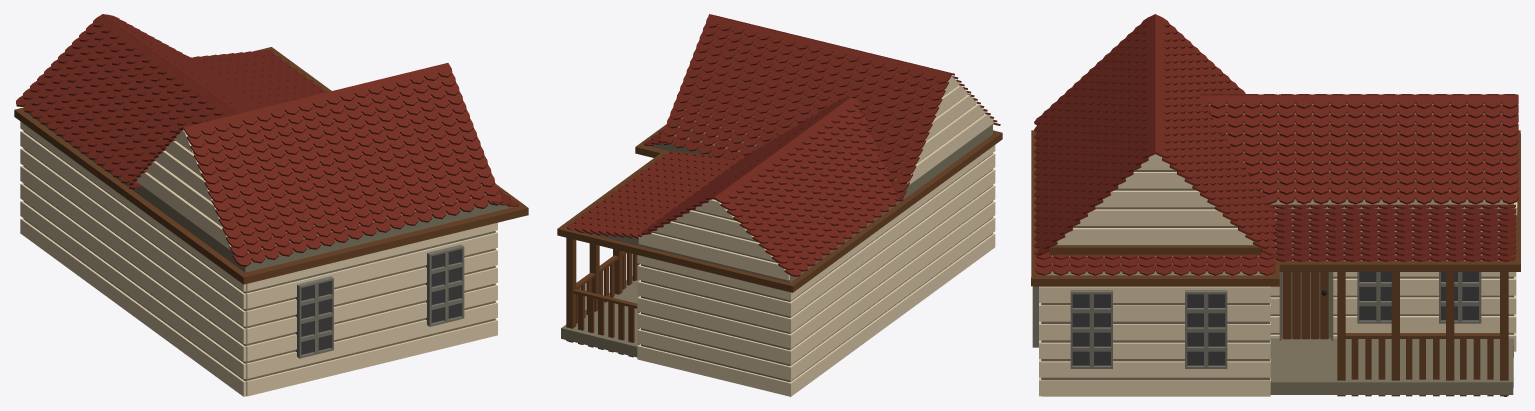
File: mainhouse.fbx
The picture shows the model from 3 angles, left to right: view 1: azimuth 30°, elevation 25°; view 2: azimuth 150°, elevation 25°; view 3: azimuth 270°, elevation 25°; orthographic projection. The views are drawn at different scales.
Parts seen in each view (by area): view 1: Cube.021, Cube.029, Cube.015, Cube.018, Cube, Cube.007, Cube.019, Cube.028, Cube.026, Cube.027, Cube.020; view 2: Cube.022, Cube.029, Cube.018, Cube.025, Cube, Cube.019, Cube.016, Cube.028, Cube.007, Cube.006, Cube.020, Cube.023 (+3 smaller); view 3: Cube.020, Cube, Cube.021, Cube.024, Cube.019, Cube.022, Cube.014, Cube.013, Cube.017, Cube.023, Cube.007, Cube.008 (+11 smaller).
Boxes of the visible parts, x1,y1,x2,y2 form: Cube.021: [183, 63, 502, 266]; Cube.029: [20, 122, 246, 396]; Cube.015: [246, 222, 497, 396]; Cube.018: [16, 14, 237, 189]; Cube: [23, 74, 512, 381]; Cube.007: [14, 108, 528, 284]; Cube.019: [189, 49, 327, 108]; Cube.028: [136, 130, 230, 250]; Cube.026: [426, 244, 464, 326]; Cube.027: [295, 276, 333, 358]; Cube.020: [102, 14, 258, 113]; Cube.022: [660, 14, 952, 199]; Cube.029: [788, 145, 995, 396]; Cube.018: [714, 97, 903, 276]; Cube.025: [639, 255, 792, 396]; Cube: [561, 25, 992, 381]; Cube.019: [567, 150, 743, 238]; Cube.016: [638, 199, 789, 280]; Cube.028: [907, 76, 994, 184]; Cube.007: [635, 124, 1002, 292]; Cube.006: [557, 150, 791, 291]; Cube.020: [641, 97, 850, 234]; Cube.023: [566, 237, 639, 342]; Cube.020: [1198, 95, 1518, 204]; Cube: [1041, 103, 1513, 394]; Cube.021: [1034, 14, 1156, 255]; Cube.024: [1041, 286, 1267, 396]; Cube.019: [1269, 204, 1515, 261]; Cube.022: [1155, 14, 1276, 255]; Cube.014: [1057, 154, 1253, 244]; Cube.013: [1270, 272, 1516, 351]; Cube.017: [1035, 248, 1275, 275]; Cube.023: [1337, 272, 1508, 396]; Cube.007: [1031, 130, 1520, 286]; Cube.008: [1070, 290, 1112, 368].
Size of the model in its own units: 1583 by 1232 by 2182.
